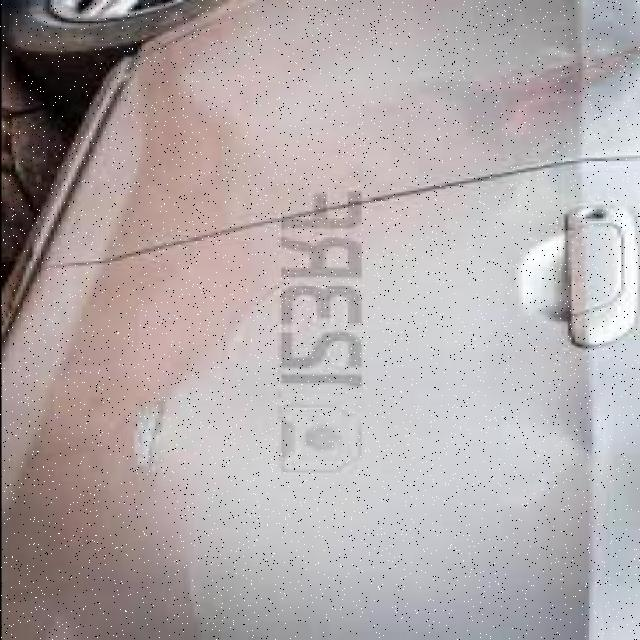damage: (128, 280, 274, 640), (480, 11, 640, 111), (169, 9, 285, 140), (497, 407, 624, 515)
